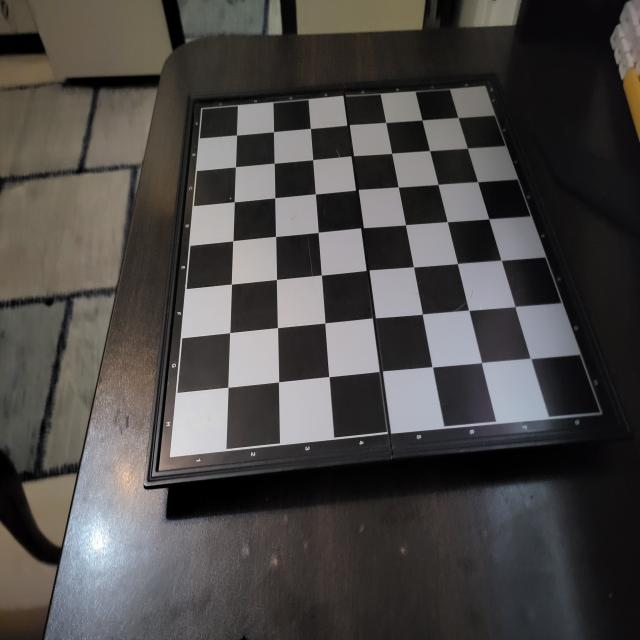chess-board: (167, 81, 612, 474)
